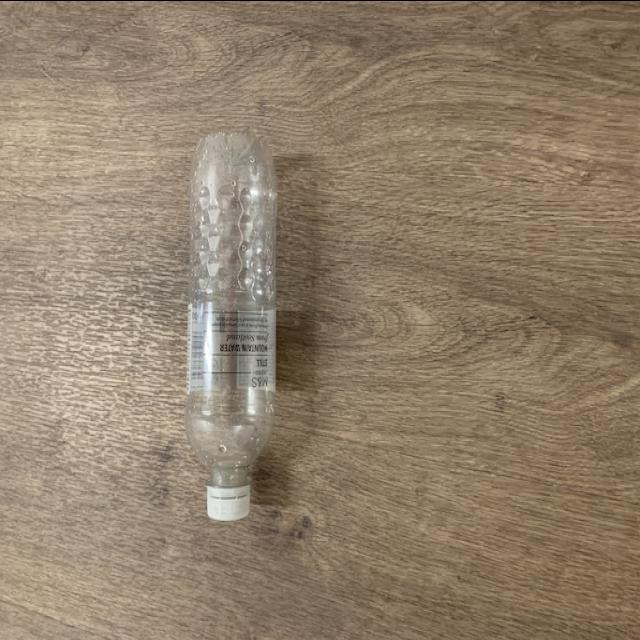litter: (180, 132, 280, 528)
